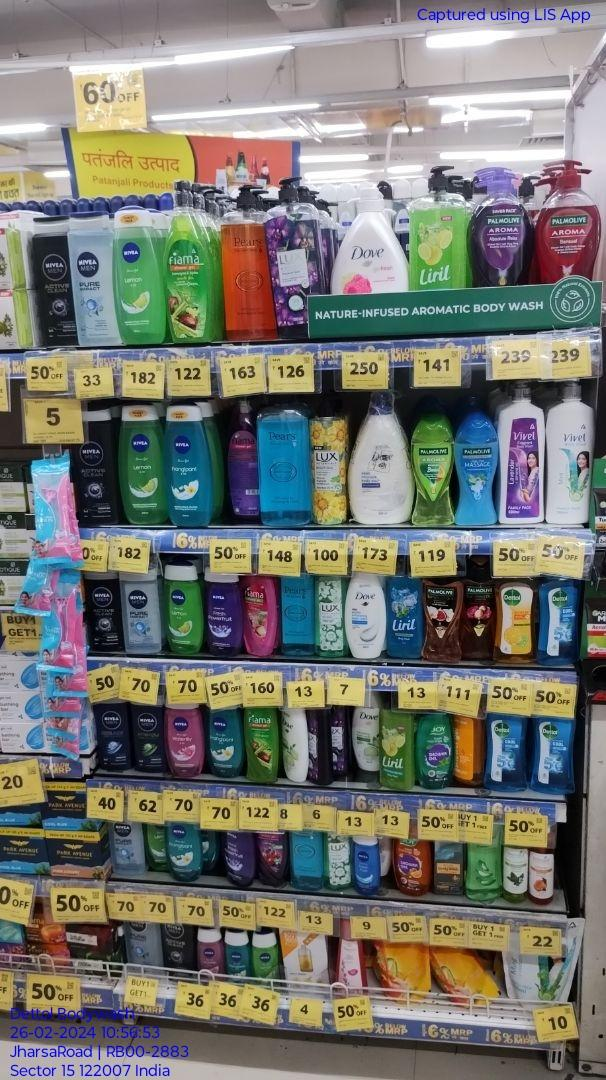Dove_Gentle_Exfoliating_Body_Wash_250ML: (344, 574, 387, 659)
Liril_Lime_and_Tea_Tree_Oil_Body_Wash_250ML: (380, 708, 415, 790)
Lux_Body_Wash_Skin_Detox_Freesia_Scent_and_Alove_Vera_245ML: (318, 577, 344, 658), (327, 832, 353, 891)
Nivea_Shower_Gel_Frangipani_and_Oil_250ML: (168, 401, 211, 526), (165, 823, 202, 884), (209, 710, 240, 777), (225, 929, 251, 983)
Nivea_Shower_Gel_Fresh_Powerfruit_250ML: (205, 570, 242, 657)
Nivea_Shower_Gel_Lemon_and_Oil_250ML: (113, 206, 160, 346), (119, 405, 165, 525), (165, 565, 201, 654), (253, 932, 280, 988)
Nivea_Shower_Gel_Waterlily_and_Oil_250ML: (165, 707, 205, 778), (197, 929, 224, 981)
Palmolive_Aroma_Moments_Feel_The_Massage_Shower_Gel_250ML: (456, 414, 496, 525)
Palmolive_Aroma_Morning_Tonic_Shower_Gel_250ML: (413, 412, 454, 528)
Pears_Pure_Glycerin_and_Mint_Extracts_Body_Wash_250ML: (258, 395, 313, 528), (282, 577, 314, 655), (289, 833, 321, 891)
